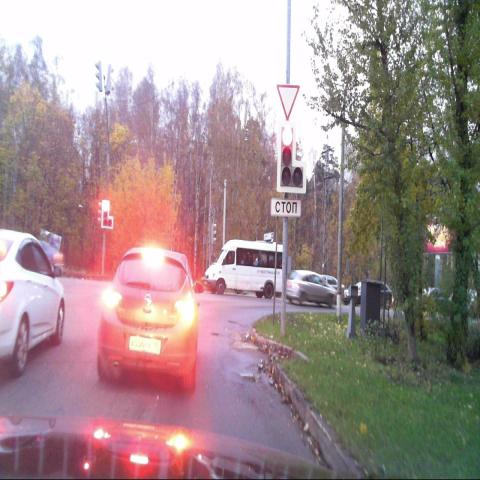6_16: (271, 198, 301, 219)
